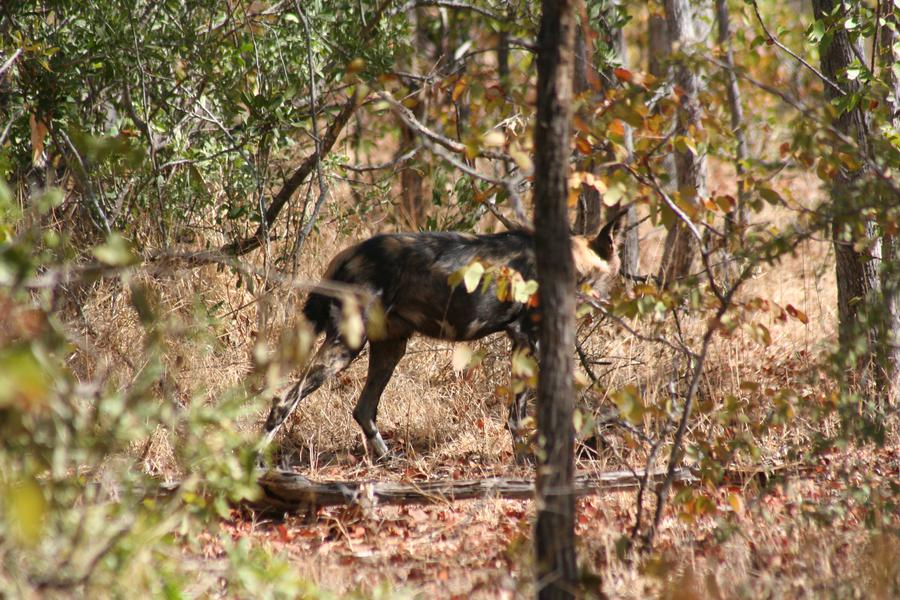wilddog: (305, 222, 613, 373)
